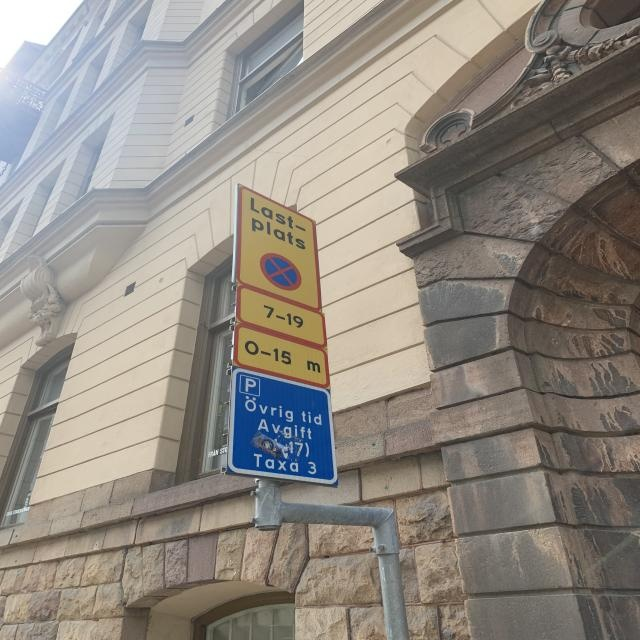lastplats: (230, 180, 327, 315)
